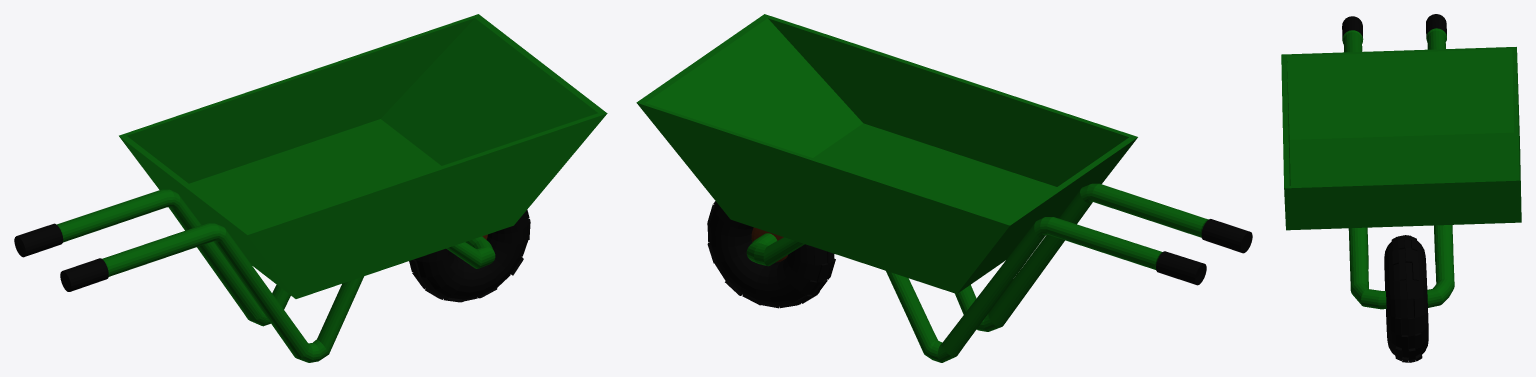
The model's file is TRUCK.fbx.
3 views of the same model, side by side, from view 1: azimuth 30°, elevation 25°; view 2: azimuth 150°, elevation 25°; view 3: azimuth 270°, elevation 25° (orthographic). The views are drawn at different scales.
Visible parts, largest first — view 1: pCylinder6; view 2: pCylinder6; view 3: pCylinder6.
Boxes of the visible parts, <box> form: pCylinder6: <box>14,14,607,362</box>; pCylinder6: <box>636,14,1252,362</box>; pCylinder6: <box>1281,14,1521,362</box>.
Size of the model in its own units: 14.73 by 6.21 by 6.51.
